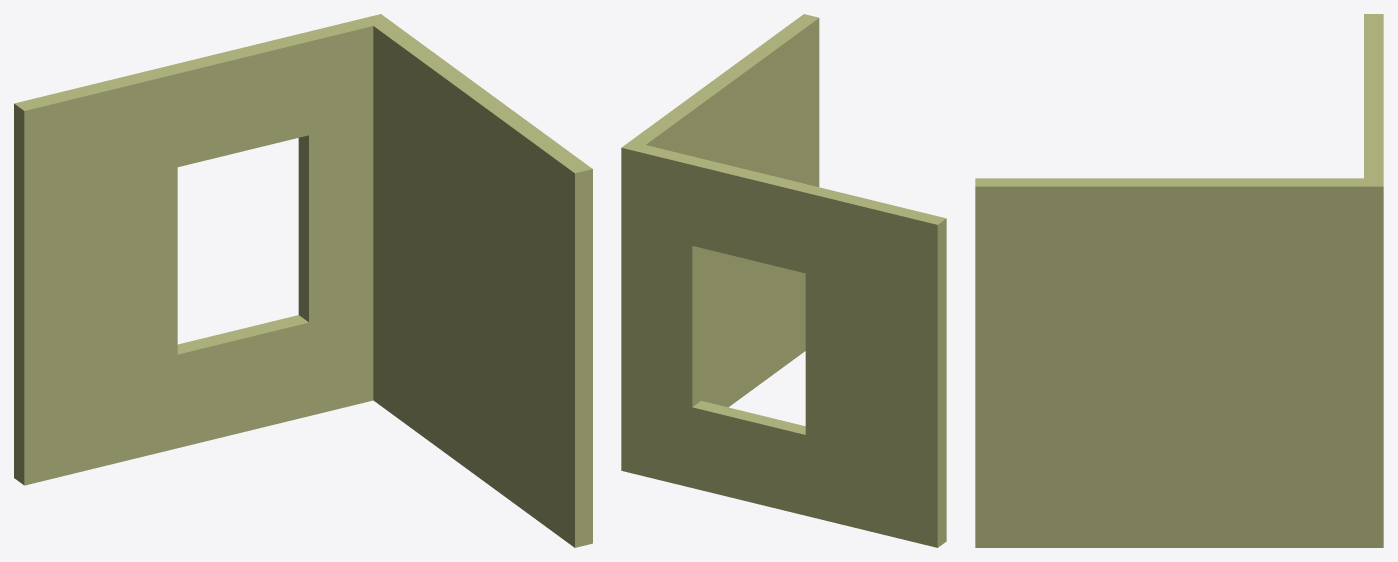
The model's file is Wal_5_Corner_D.fbx.
The picture shows the model from 3 angles, left to right: view 1: azimuth 30°, elevation 25°; view 2: azimuth 150°, elevation 25°; view 3: azimuth 270°, elevation 25°; orthographic projection. The views are drawn at different scales.
Visible parts, largest first — view 1: polySurface34; view 2: polySurface34; view 3: polySurface34.
Part boxes in pixels (box(x1,y1,x2,y2)): polySurface34: box(14, 14, 592, 547); polySurface34: box(621, 14, 946, 547); polySurface34: box(975, 14, 1383, 547).
Size of the model in its own units: 4.1 by 4 by 4.1.
Materials: 1 (1 with a texture image).
